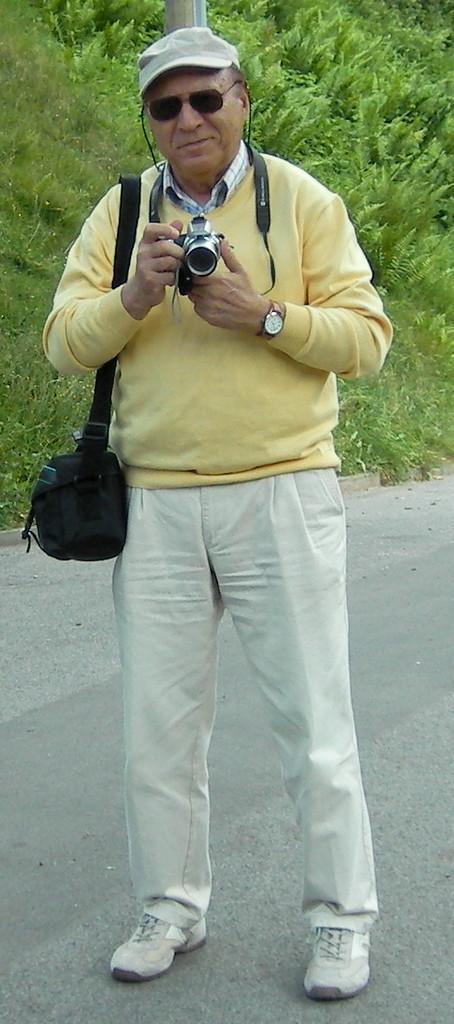Luggage-and-bags: (30, 415, 124, 566)
